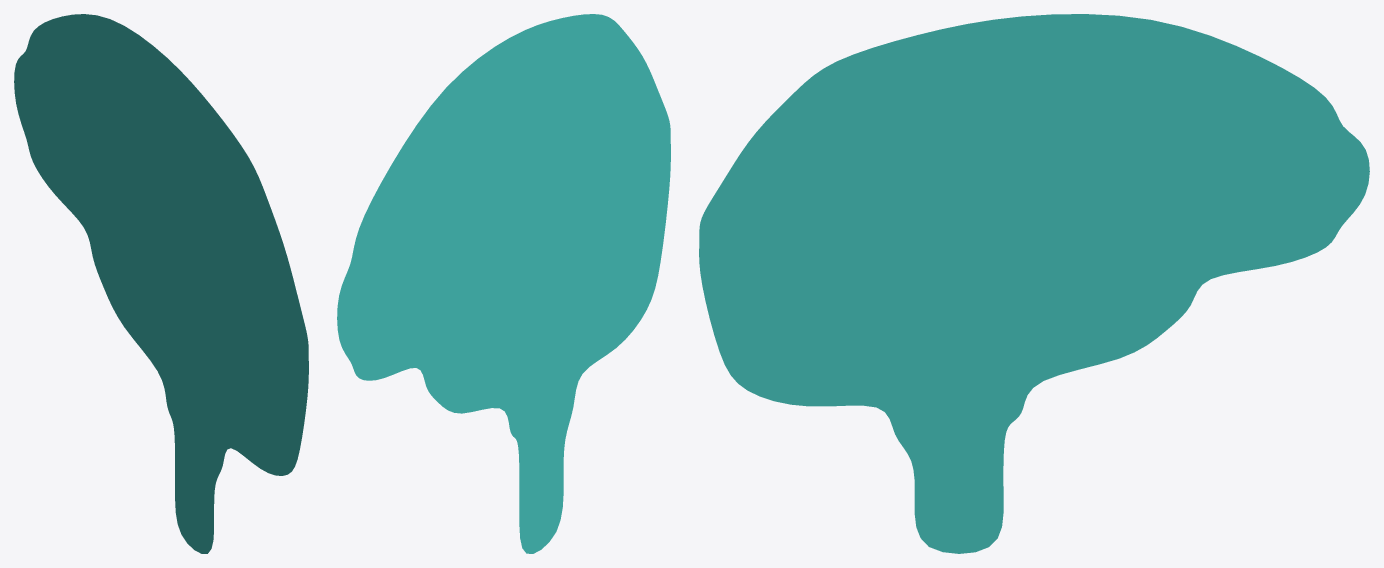
Rendered from Brain_smoothed.glb.
3 renders of one model, left to right at view 1: azimuth 30°, elevation 25°; view 2: azimuth 150°, elevation 25°; view 3: azimuth 270°, elevation 25°, orthographic. The views are drawn at different scales.
Parts seen in each view (by area): view 1: Plane; view 2: Plane; view 3: Plane.
Boxes of the visible parts, bbox=[...] form: Plane: bbox=[14, 14, 308, 553]; Plane: bbox=[337, 14, 670, 553]; Plane: bbox=[699, 14, 1369, 553].
Size of the model in its own units: 1.29e-07 by 2.68 by 3.02.
